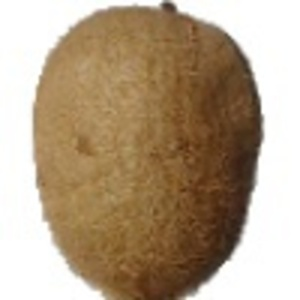kiwi: (19, 1, 265, 300)
